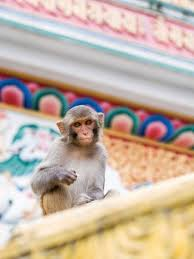monkey: (35, 51, 159, 247)
